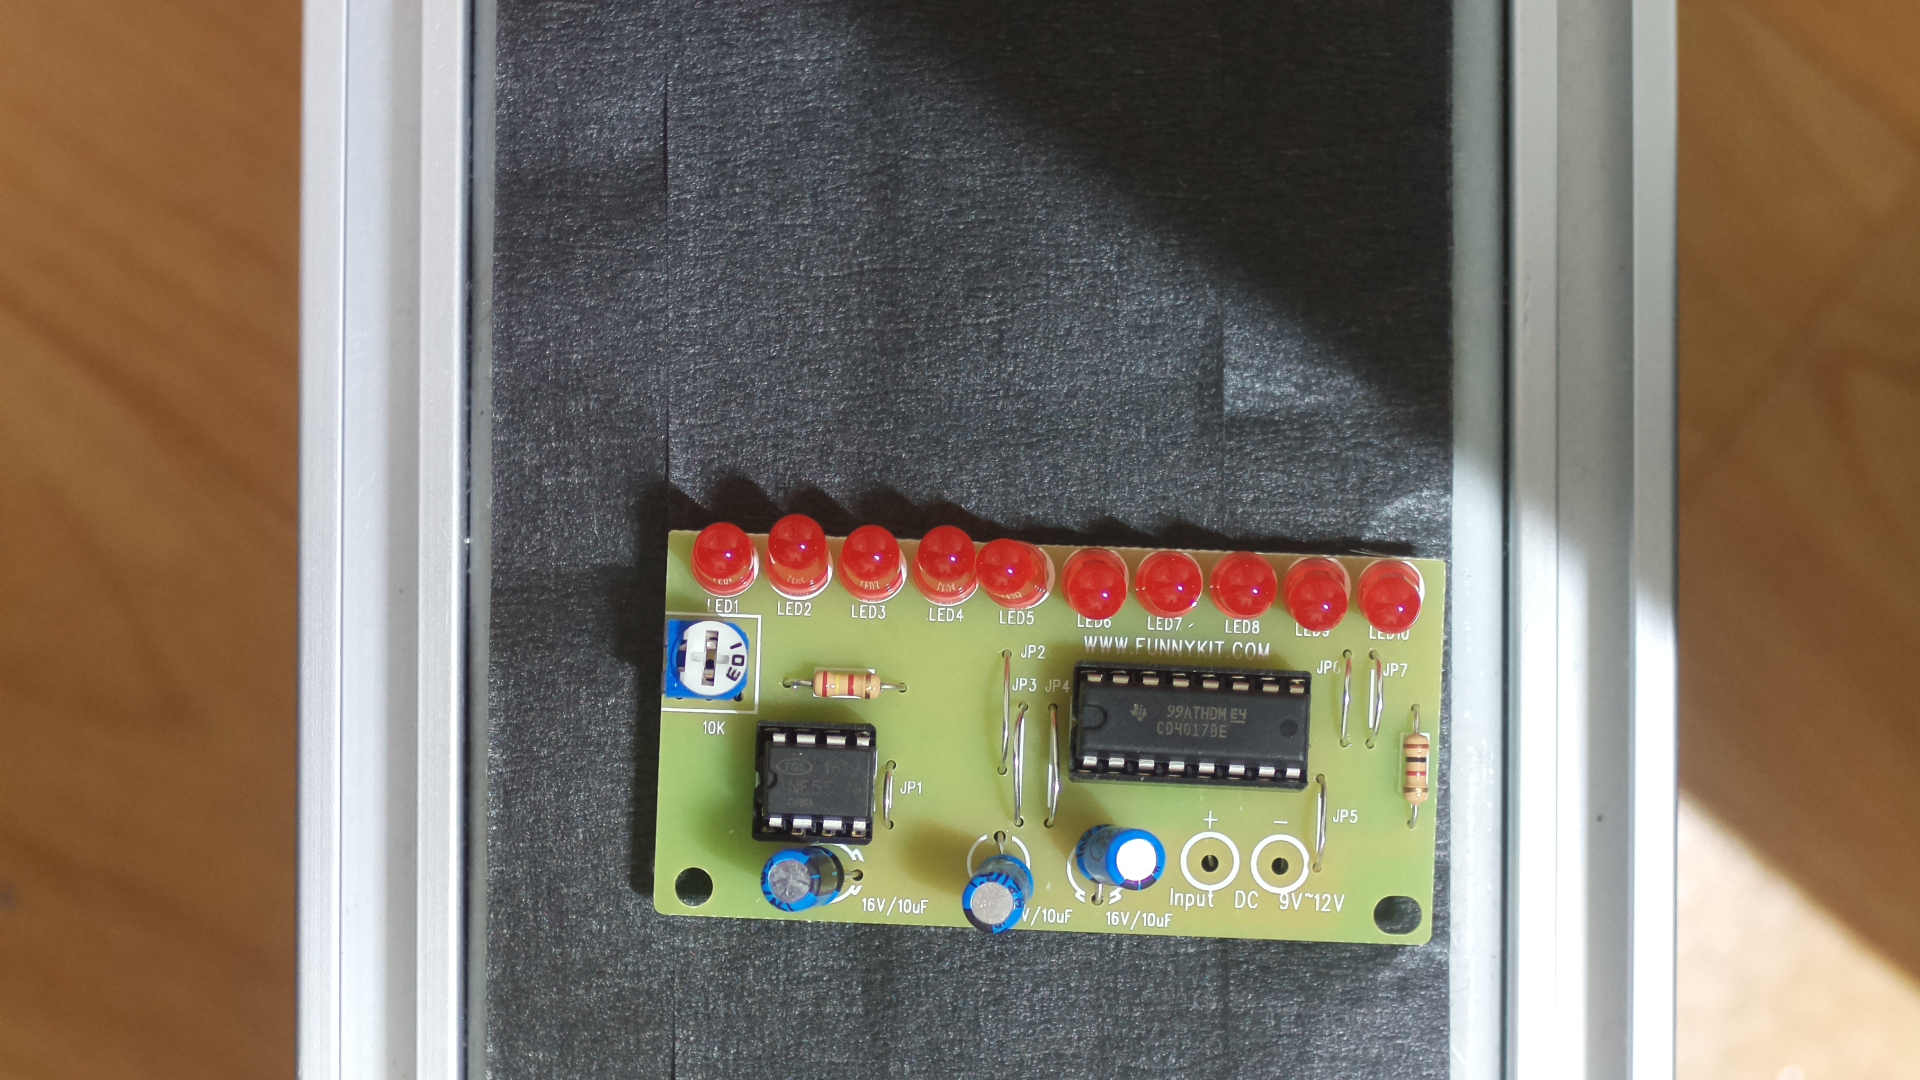B_Normal: (653, 506, 1458, 977)
